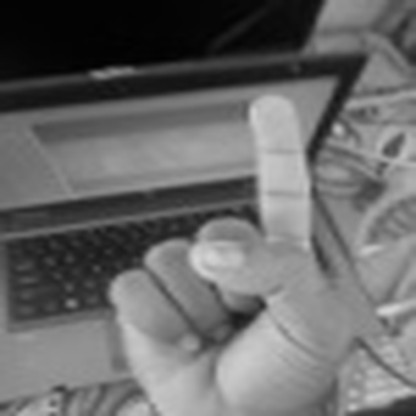d: (107, 93, 340, 416)
